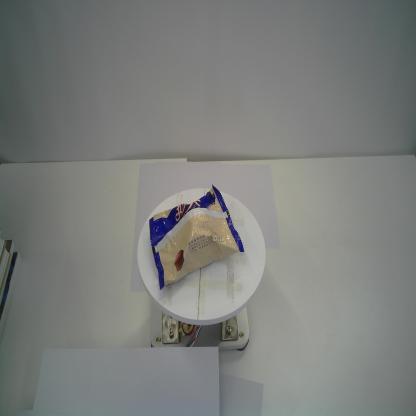Dessert: (149, 184, 244, 292)
